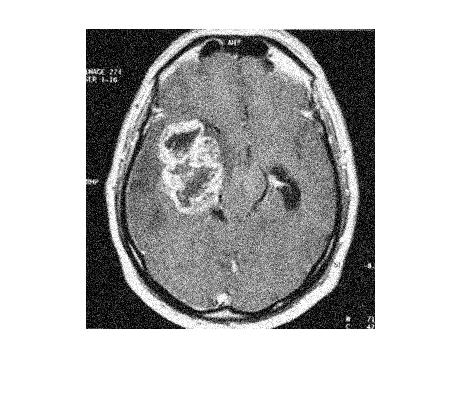Brain_Cancer: (159, 117, 224, 213)
